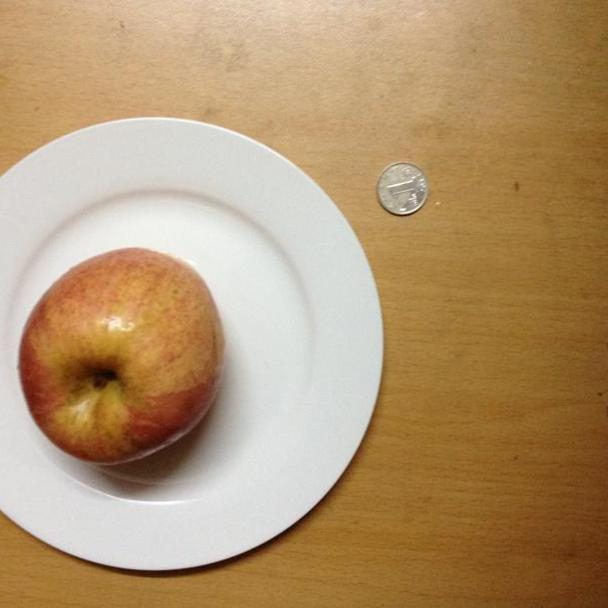apple: (20, 247, 227, 467)
